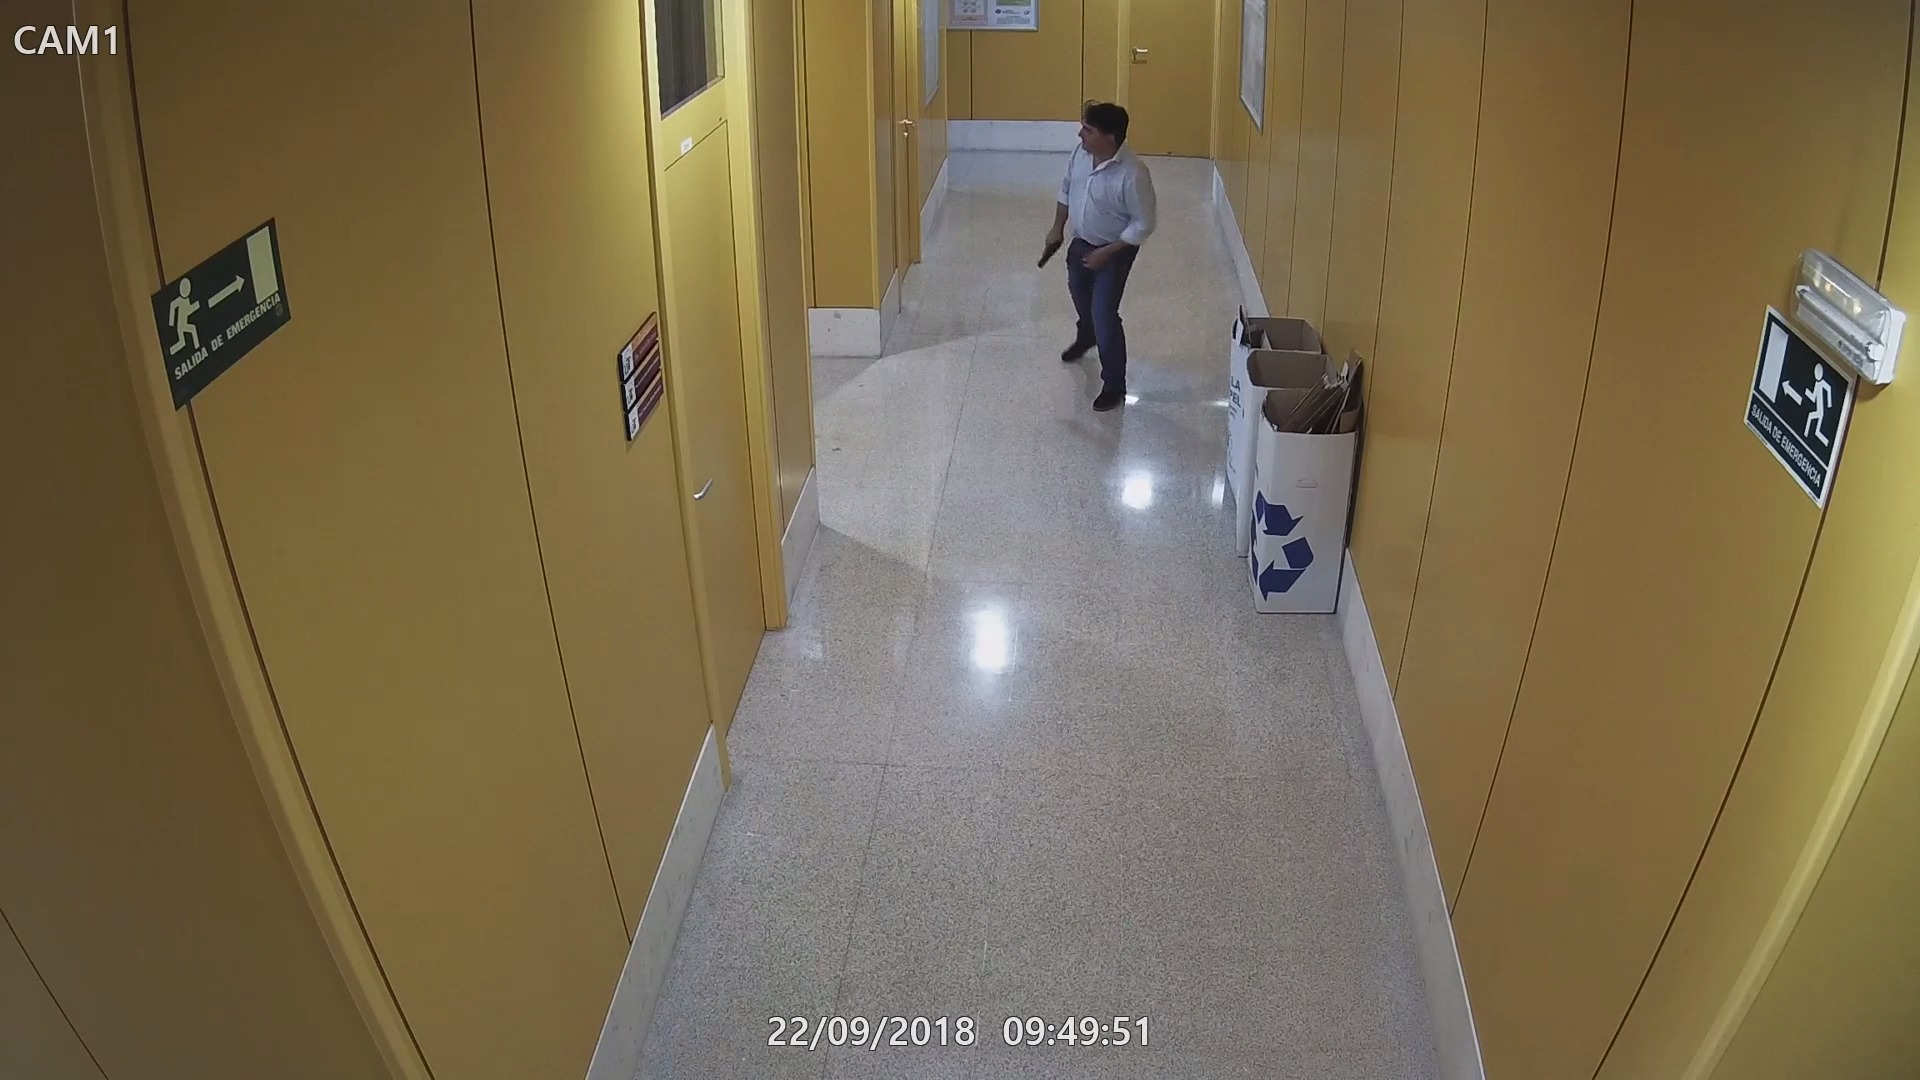Handgun: (1035, 224, 1068, 268)
